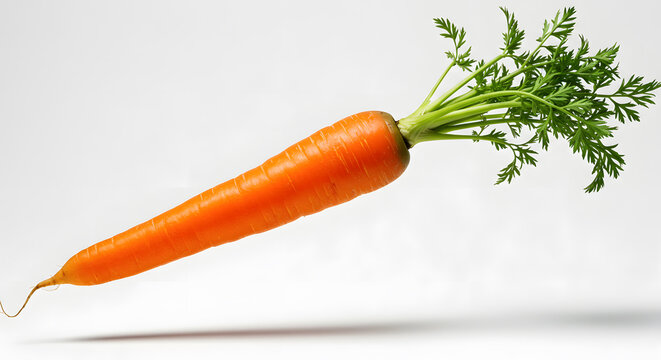carrot: (10, 11, 651, 355)
